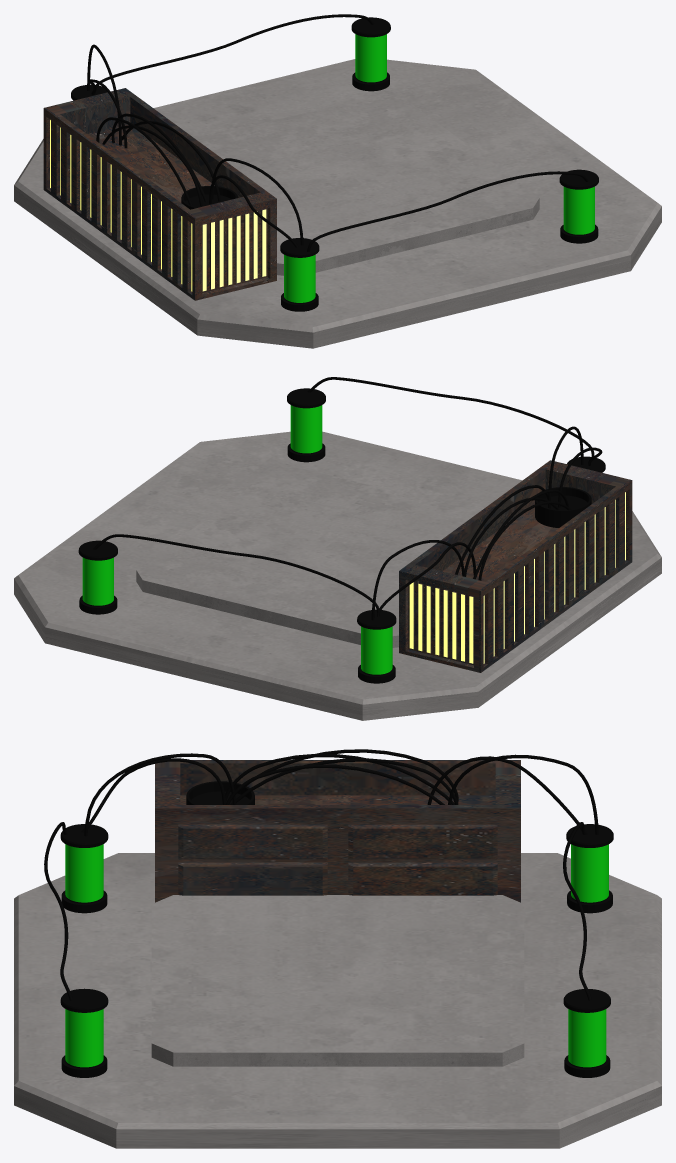
File: teleport.fbx
3 views of the same model, one above another, from view 1: azimuth 30°, elevation 25°; view 2: azimuth 150°, elevation 25°; view 3: azimuth 270°, elevation 25° (orthographic). The views are drawn at different scales.
Parts seen in each view (by area): view 1: Cube.082; view 2: Cube.082; view 3: Cube.082.
Boxes of the visible parts, x1=… form: Cube.082: x1=14, y1=14, x2=661, y2=348; Cube.082: x1=14, y1=377, x2=661, y2=720; Cube.082: x1=14, y1=749, x2=661, y2=1148.
Size of the model in its own units: 340 by 95.27 by 340.
